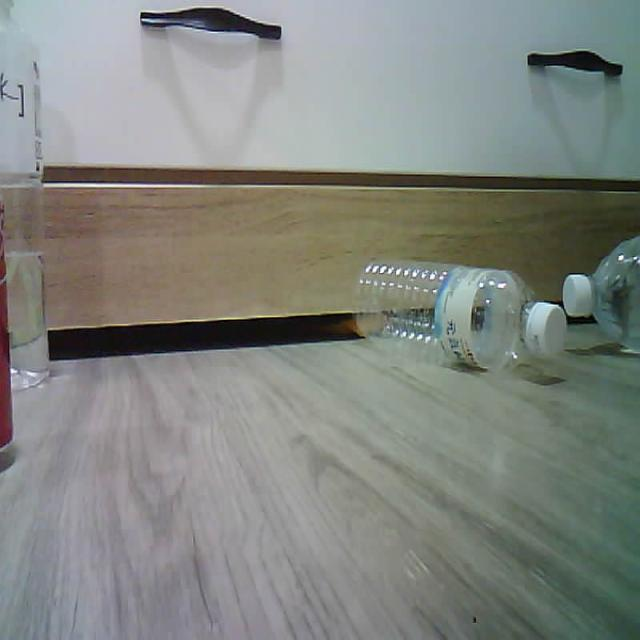bottle: (355, 258, 566, 369), (0, 0, 48, 390)
